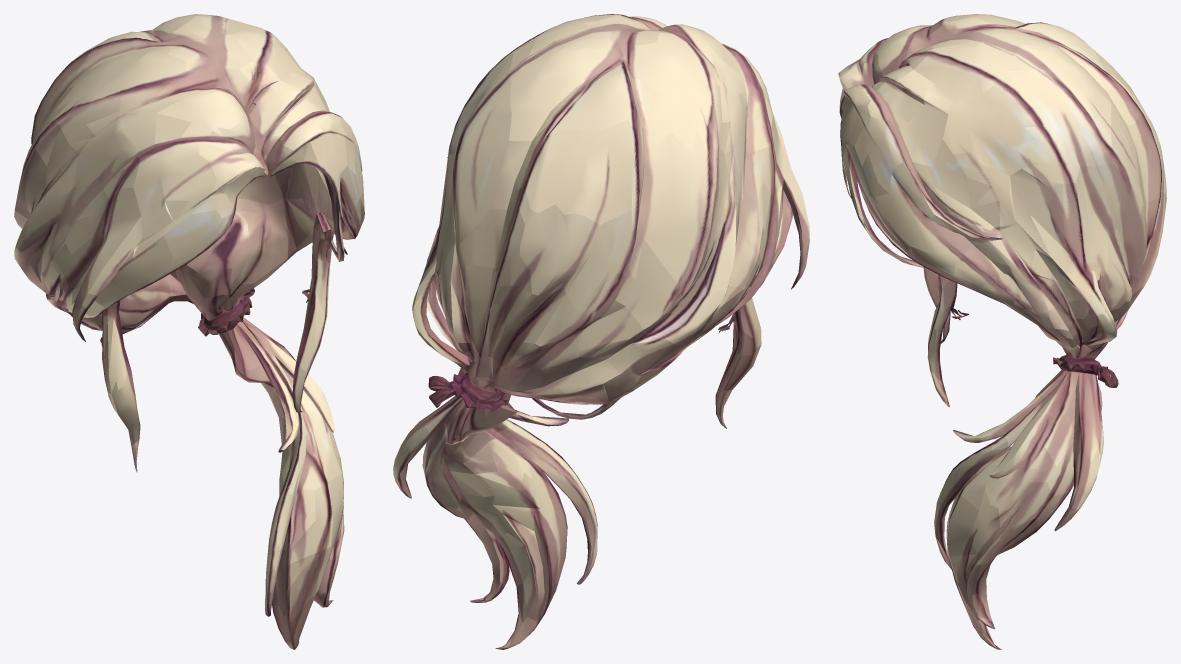
File: fennal_f-queue-basse.glb
The picture shows the model from 3 angles, left to right: view 1: azimuth 30°, elevation 25°; view 2: azimuth 150°, elevation 25°; view 3: azimuth 270°, elevation 25°; orthographic projection. The views are drawn at different scales.
Visible parts, largest first — view 1: geometry_0; view 2: geometry_0; view 3: geometry_0.
Part boxes in pixels (x1,y1,x2,y2): geometry_0: (14, 14, 364, 649); geometry_0: (393, 14, 809, 649); geometry_0: (838, 14, 1166, 649).
Bounding box in the file's own units: 1.01 × 1.9 × 0.9867.
1 material, 1 textured.
